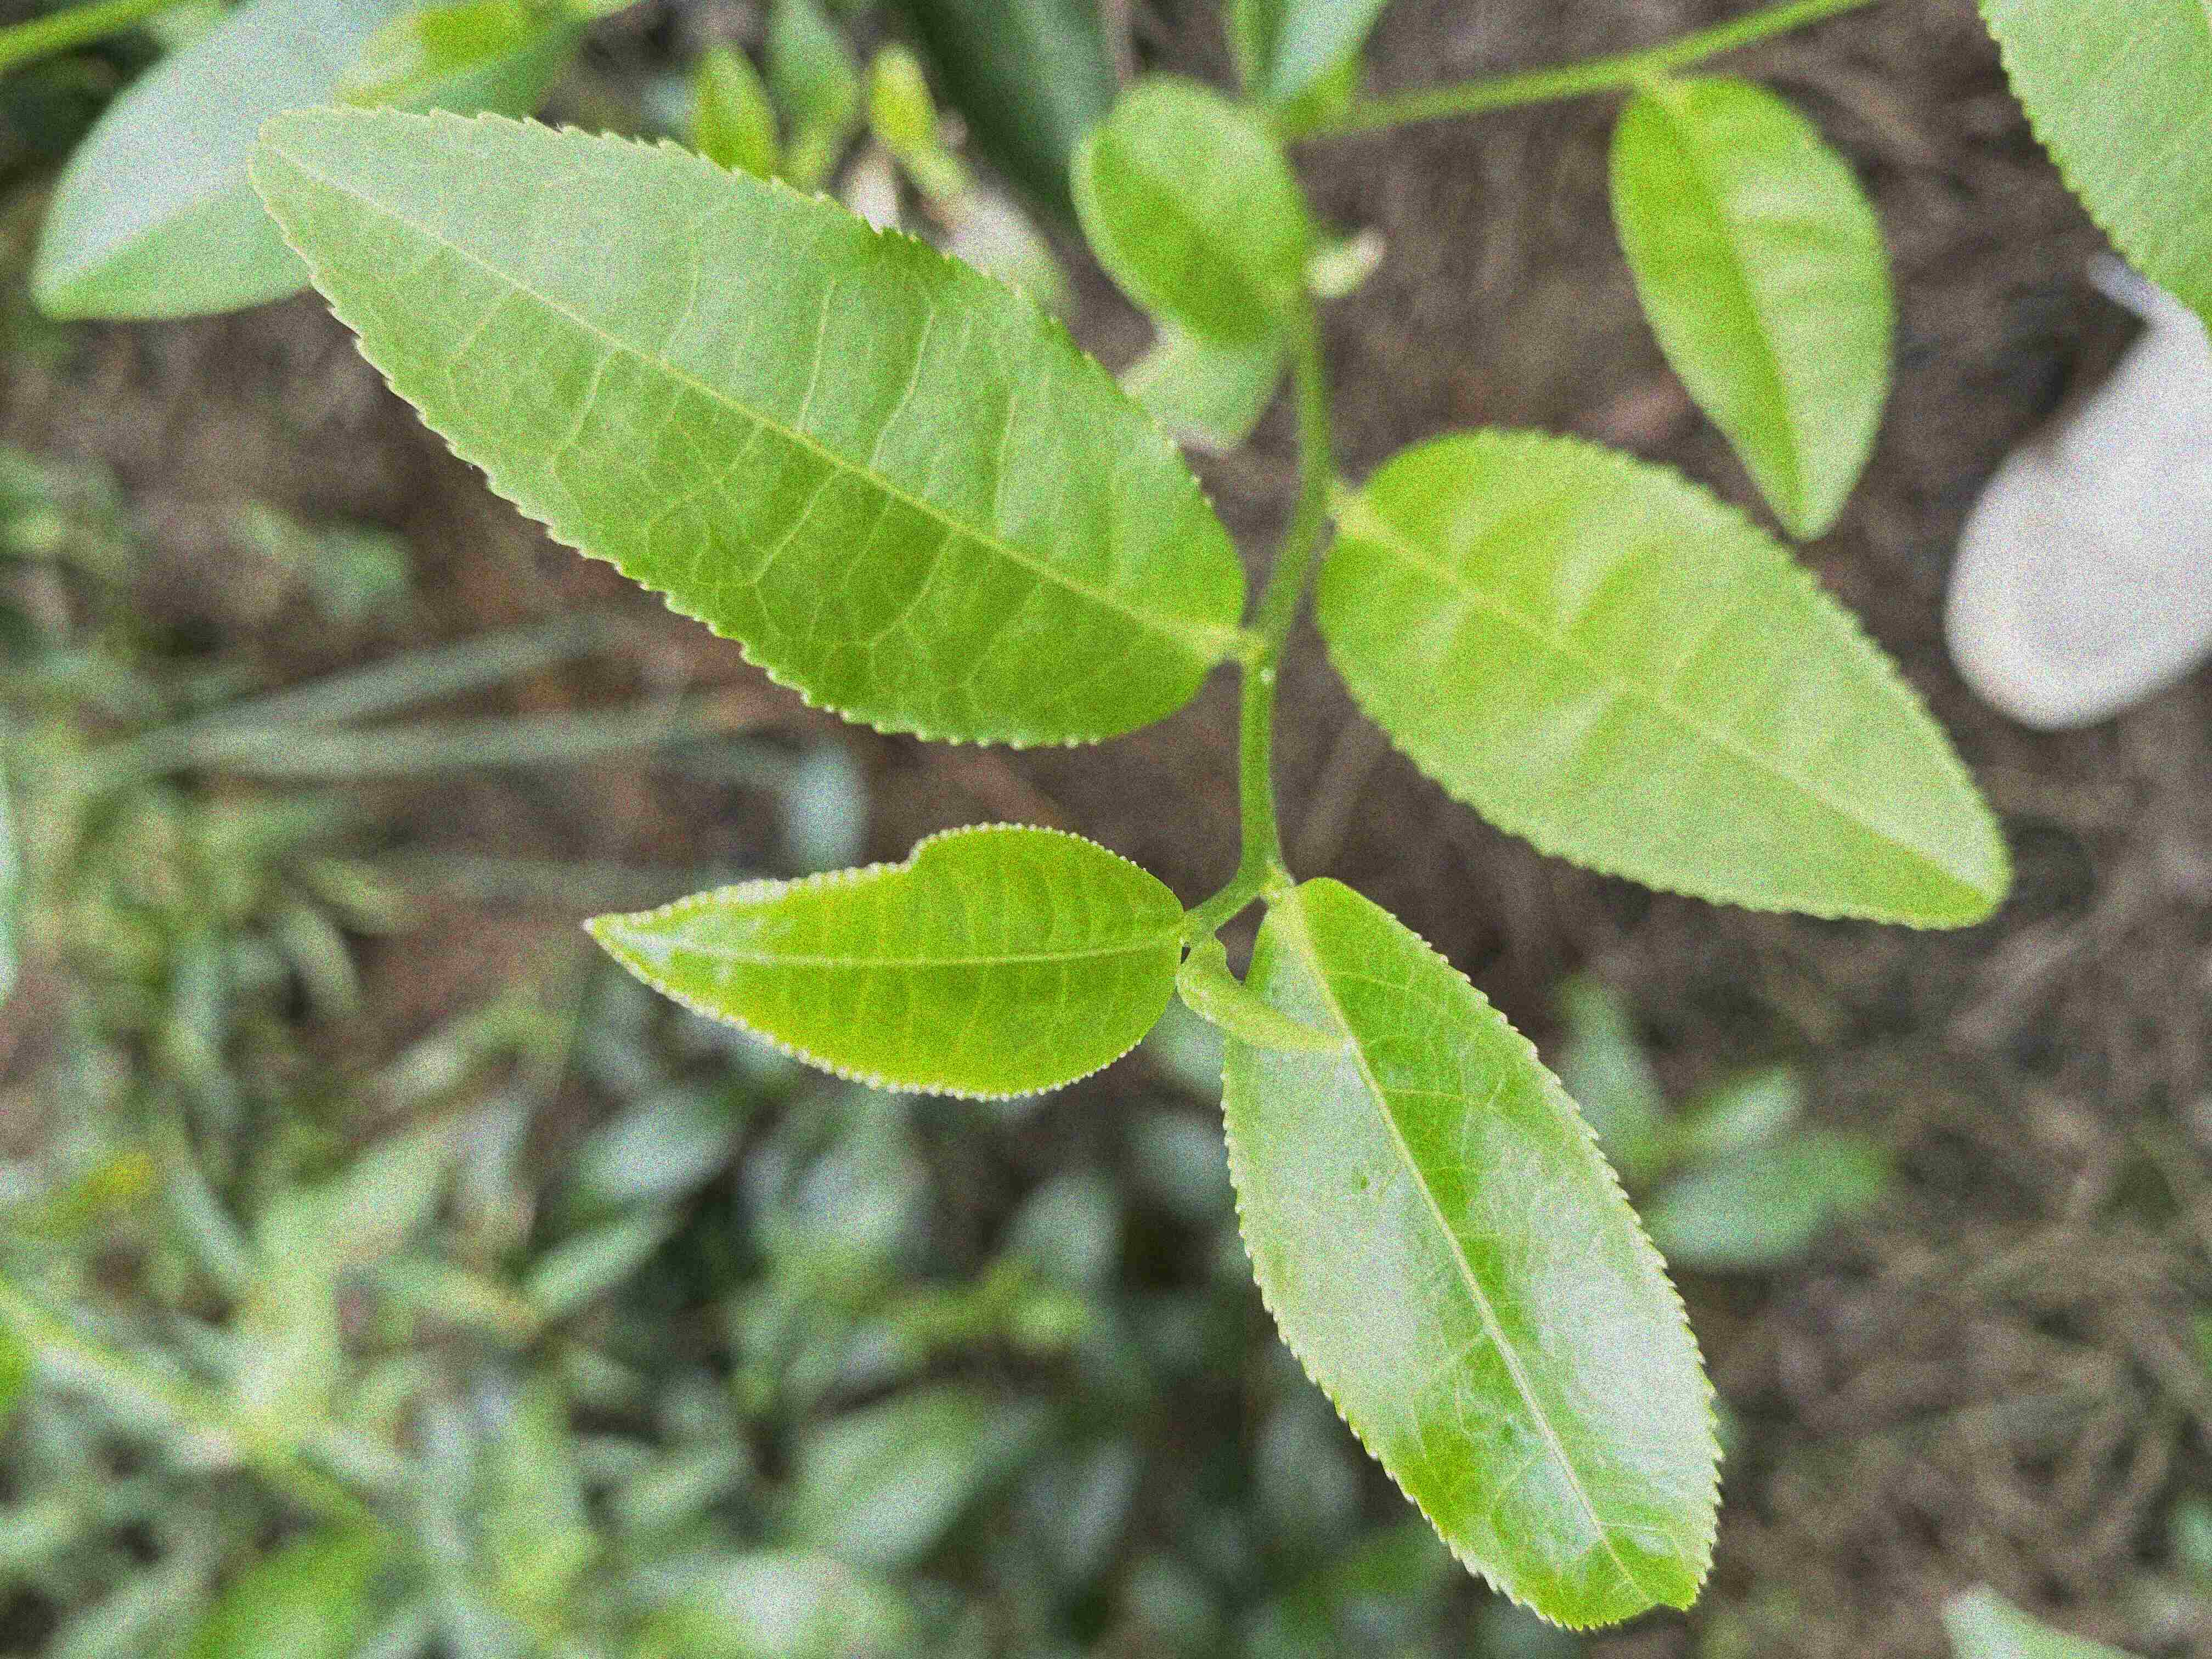healthy: (247, 101, 1251, 751), (1219, 875, 1728, 1631), (1313, 422, 2017, 929), (583, 823, 1186, 1101)
